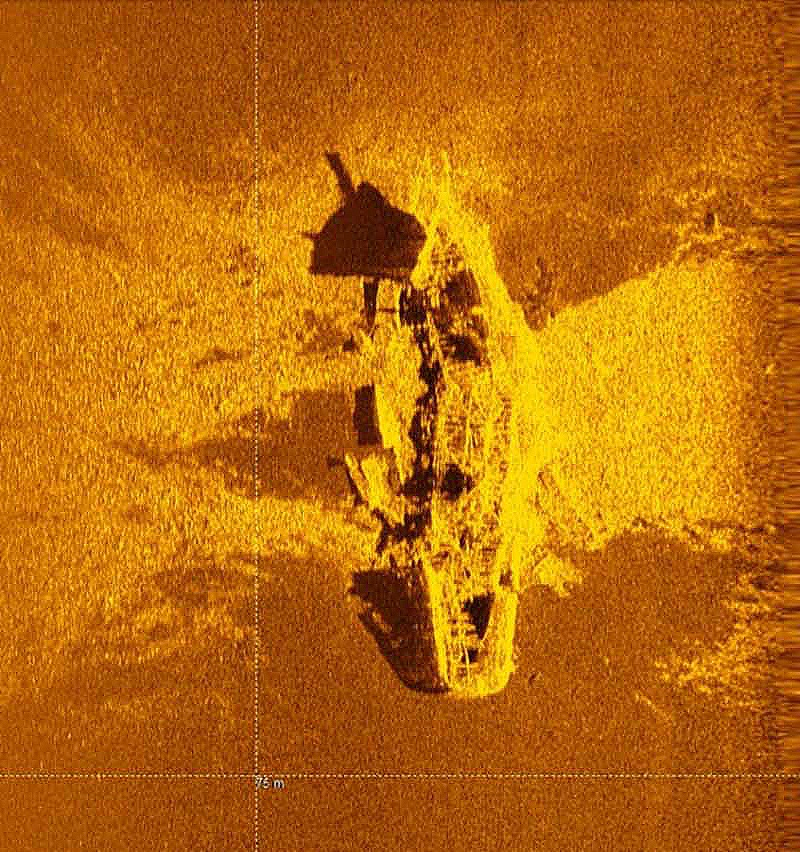ship: (343, 145, 537, 700)
